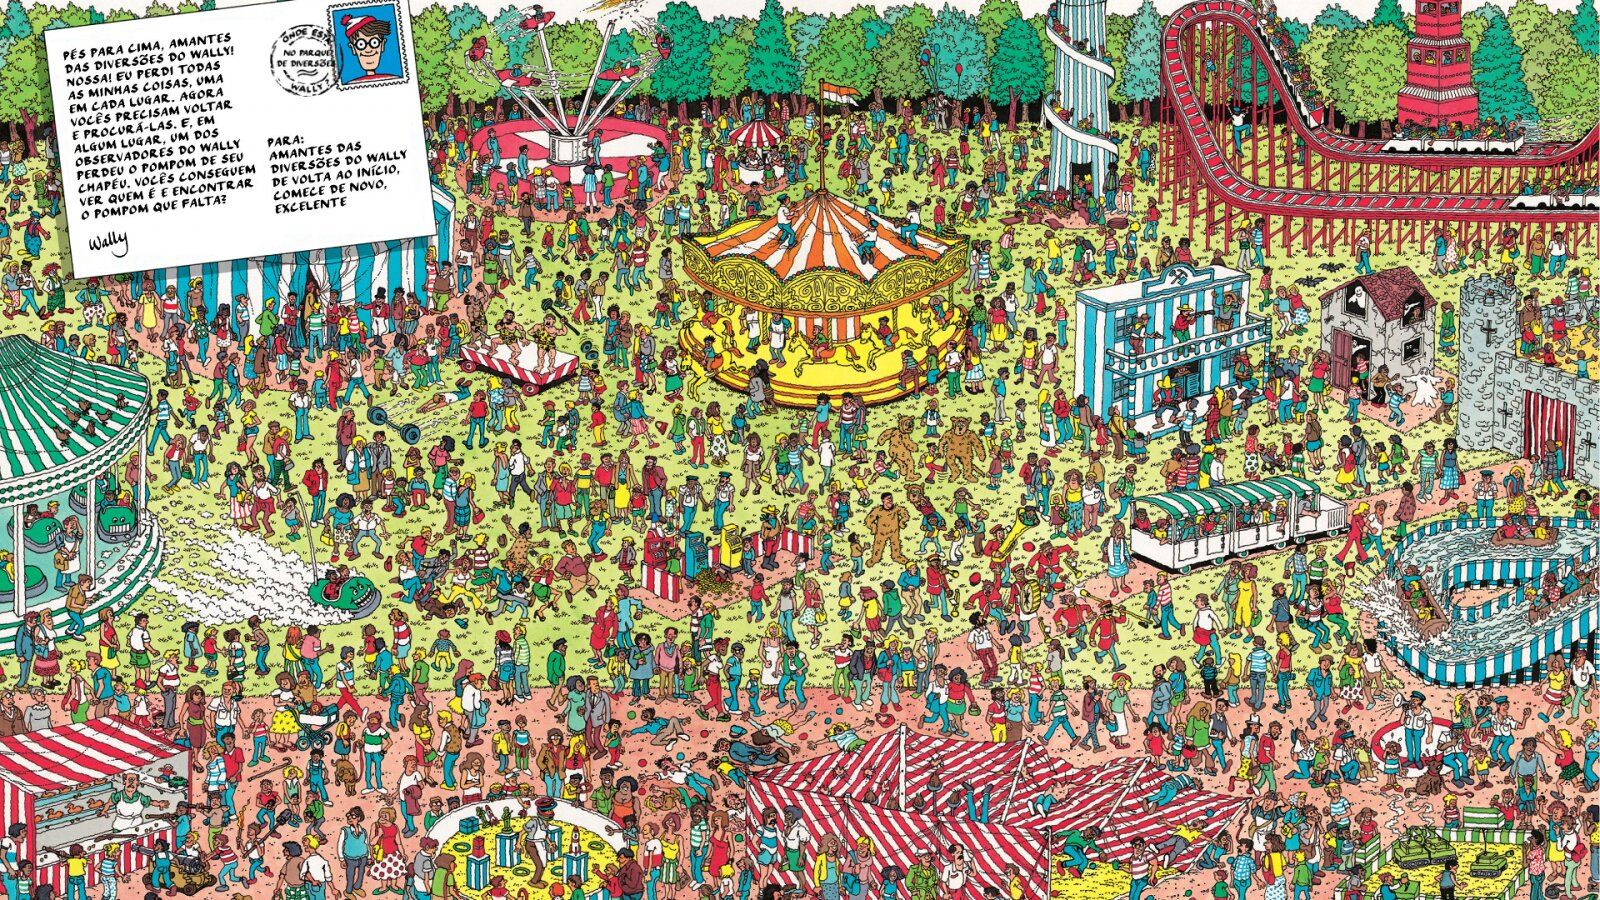Waldo: (338, 7, 401, 79), (82, 515, 107, 567)
